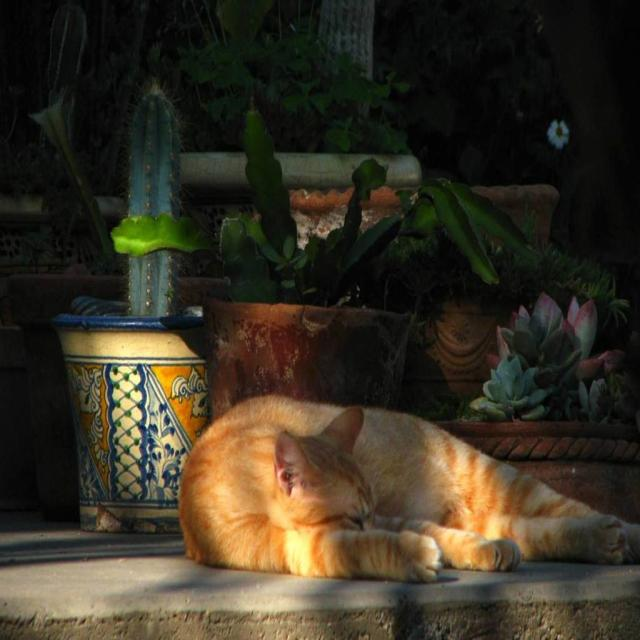Cat: (174, 396, 638, 587)
